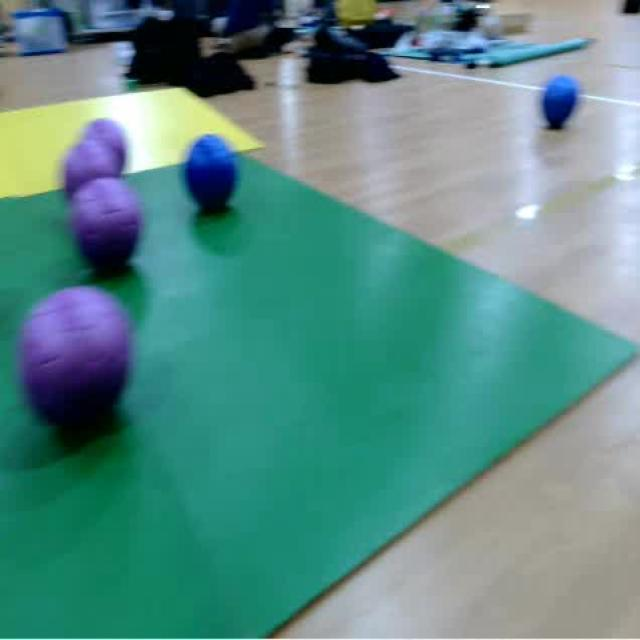blue_ball: (186, 136, 238, 212), (543, 76, 579, 126)
purple_ball: (20, 290, 126, 424), (73, 180, 144, 273), (65, 141, 120, 200)
